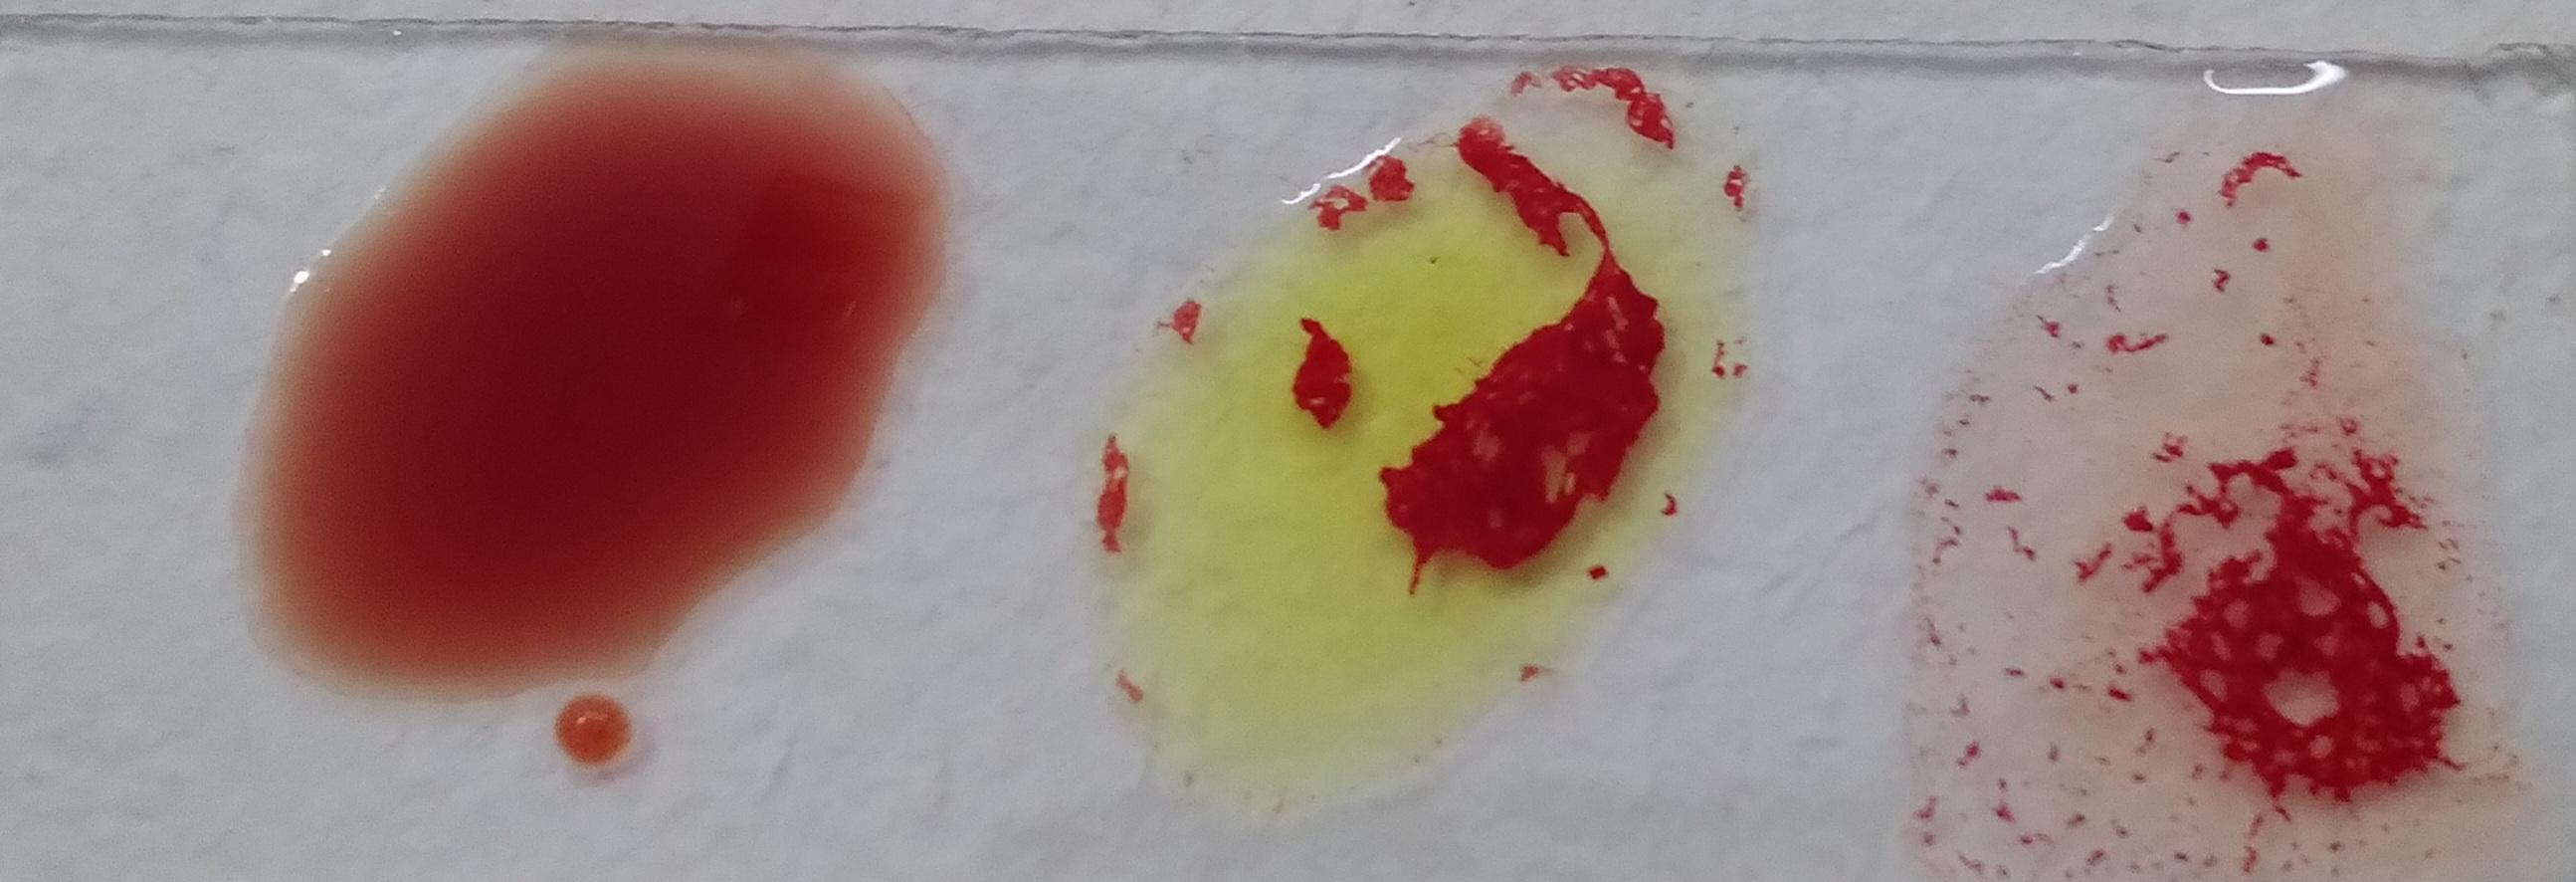B: (823, 62, 1510, 816)
D: (74, 0, 692, 798)
